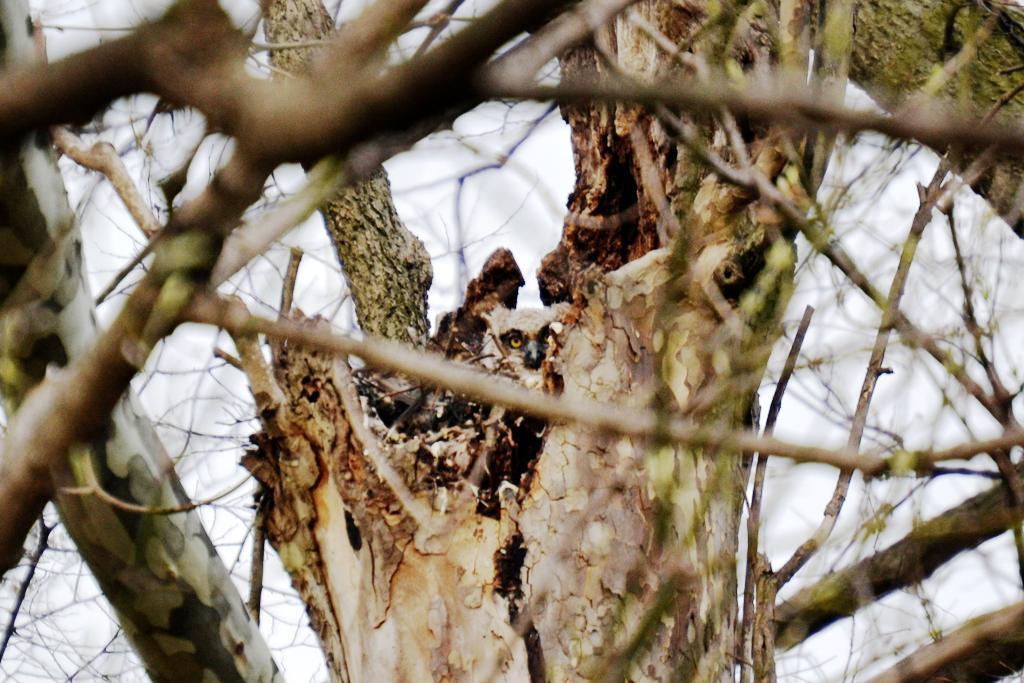Owl: (473, 300, 572, 440)
